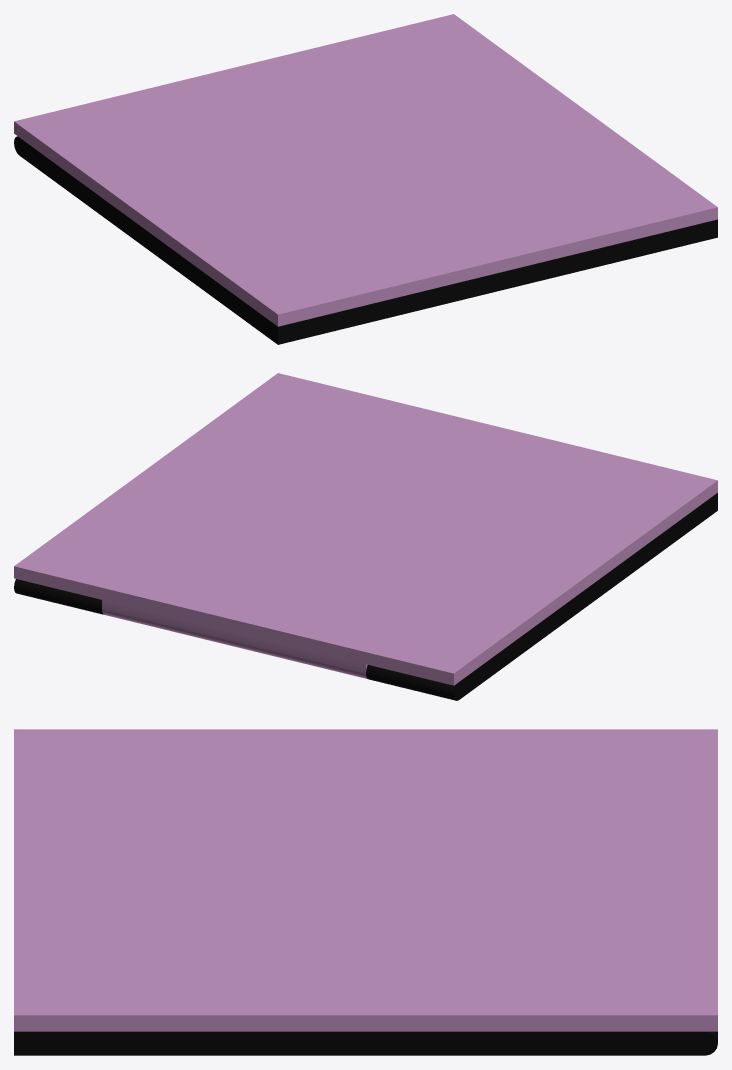
The model's file is GeneraCosme_ES.fbx.
3 views of the same model, one above another, from view 1: azimuth 30°, elevation 25°; view 2: azimuth 150°, elevation 25°; view 3: azimuth 270°, elevation 25° (orthographic). The views are drawn at different scales.
Visible parts, largest first — view 1: GeneraCosme_Cover, GeneraCosme_EyeShadow; view 2: GeneraCosme_Cover, GeneraCosme_EyeShadow; view 3: GeneraCosme_Cover, GeneraCosme_EyeShadow.
Part boxes in pixels (x1,y1,x2,y2): GeneraCosme_Cover: (14,14,717,326); GeneraCosme_EyeShadow: (14,136,717,344); GeneraCosme_Cover: (14,373,717,685); GeneraCosme_EyeShadow: (14,493,717,700); GeneraCosme_Cover: (14,729,717,1031); GeneraCosme_EyeShadow: (14,1031,717,1055).
Size of the model in its own units: 11.4 by 0.75 by 11.85.
